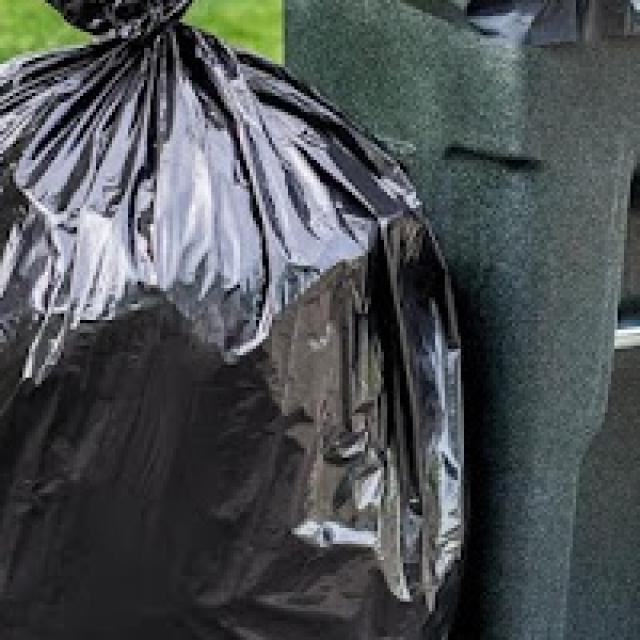Trashbag: (0, 29, 480, 640)
